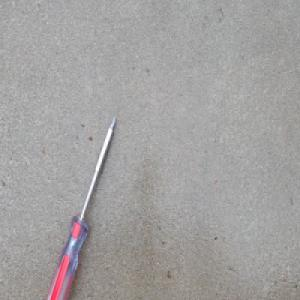Screwdriver: (43, 114, 116, 299)
